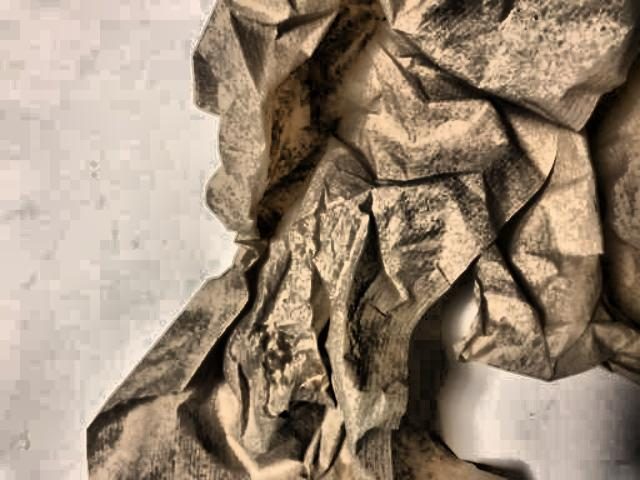Paper: (74, 0, 640, 480)
